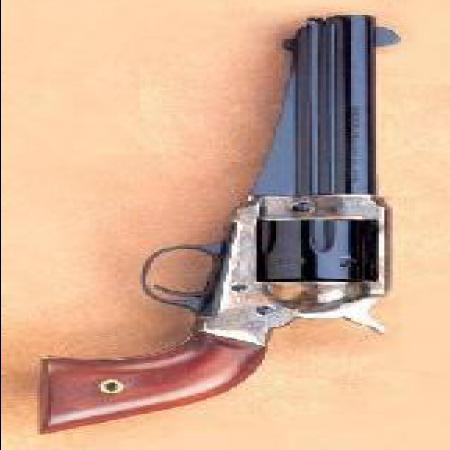Pistol: (39, 14, 411, 436)
